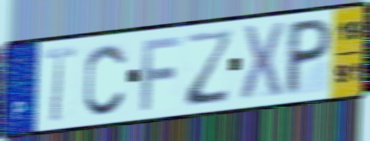C: (82, 41, 129, 118)
F: (138, 34, 184, 113)
P: (281, 15, 335, 99)
T: (43, 44, 78, 125)
X: (238, 20, 286, 105)
Z: (185, 26, 235, 109)
